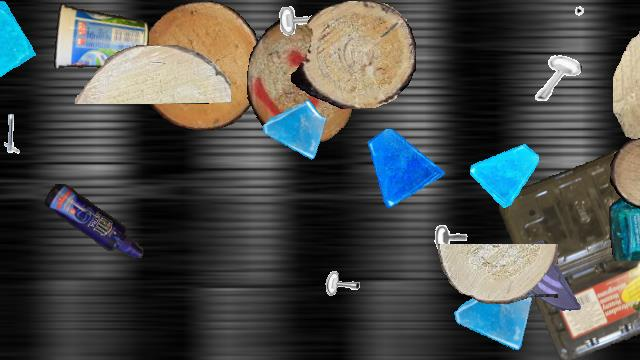glass: (452, 275, 536, 359), (365, 129, 445, 209), (506, 234, 586, 314), (261, 97, 329, 165), (470, 139, 538, 207), (0, 1, 41, 93)
metal: (273, 1, 333, 61), (319, 247, 371, 299), (531, 52, 581, 102), (432, 206, 478, 252), (574, 1, 614, 41), (0, 106, 31, 156)
plastic: (499, 149, 640, 359), (45, 184, 143, 258), (52, 1, 148, 71), (609, 178, 640, 260)
wood: (139, 1, 263, 129), (291, 1, 415, 109), (247, 20, 355, 142), (74, 45, 230, 103), (438, 244, 558, 304), (613, 1, 640, 159), (610, 138, 640, 210)
